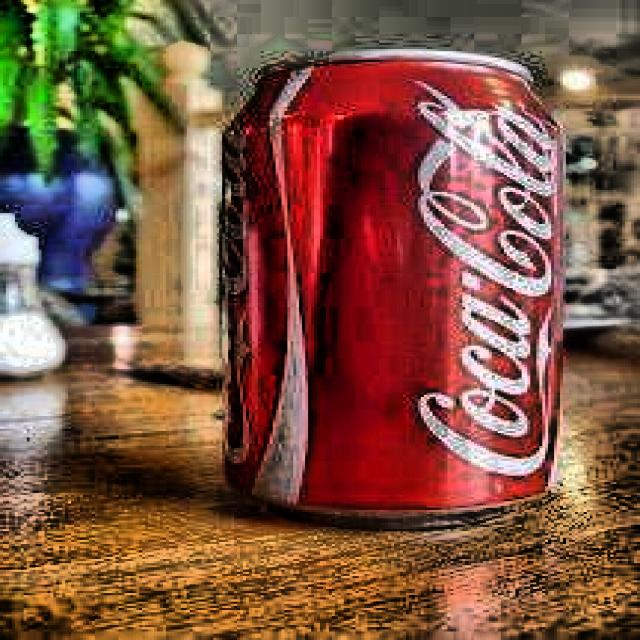Cans: (186, 35, 596, 546)
